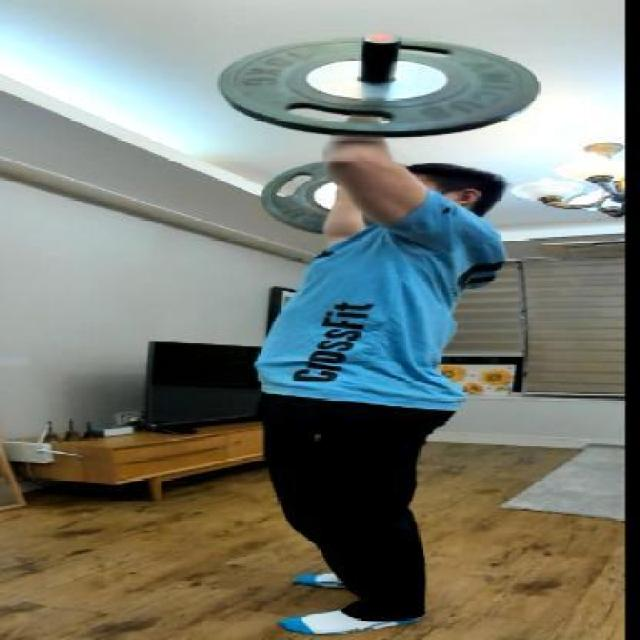barbell: (214, 34, 549, 143)
